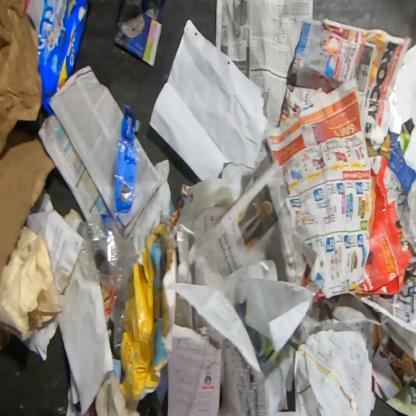cardboard: (110, 223, 176, 401), (347, 156, 414, 298), (0, 120, 57, 278), (0, 224, 64, 351), (377, 130, 415, 254), (242, 320, 308, 382)
rigid_plastic: (76, 104, 139, 361)
soft_plastic: (25, 0, 87, 117)
